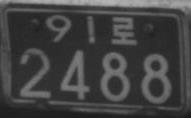1: (78, 15, 103, 43)
2: (19, 46, 51, 99)
4: (59, 49, 90, 100)
8: (140, 52, 172, 105), (99, 50, 130, 103)
9: (45, 14, 71, 42)
로: (110, 15, 137, 45)
